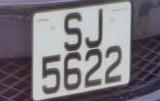2: (83, 47, 106, 92), (103, 45, 127, 86)
5: (38, 51, 63, 100)
6: (61, 51, 84, 96)
J: (83, 5, 107, 52)
S: (60, 9, 85, 54)
